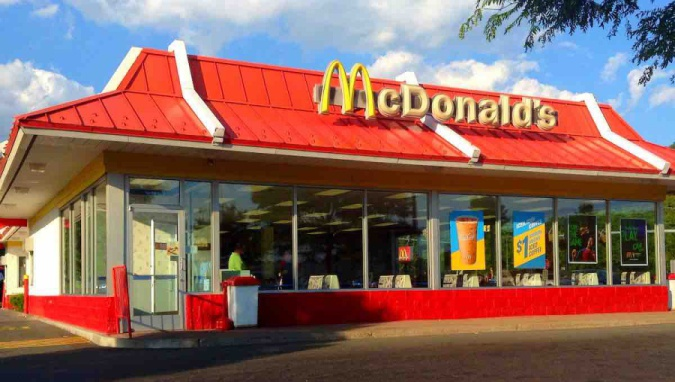mcdonalds: (313, 54, 381, 124)
